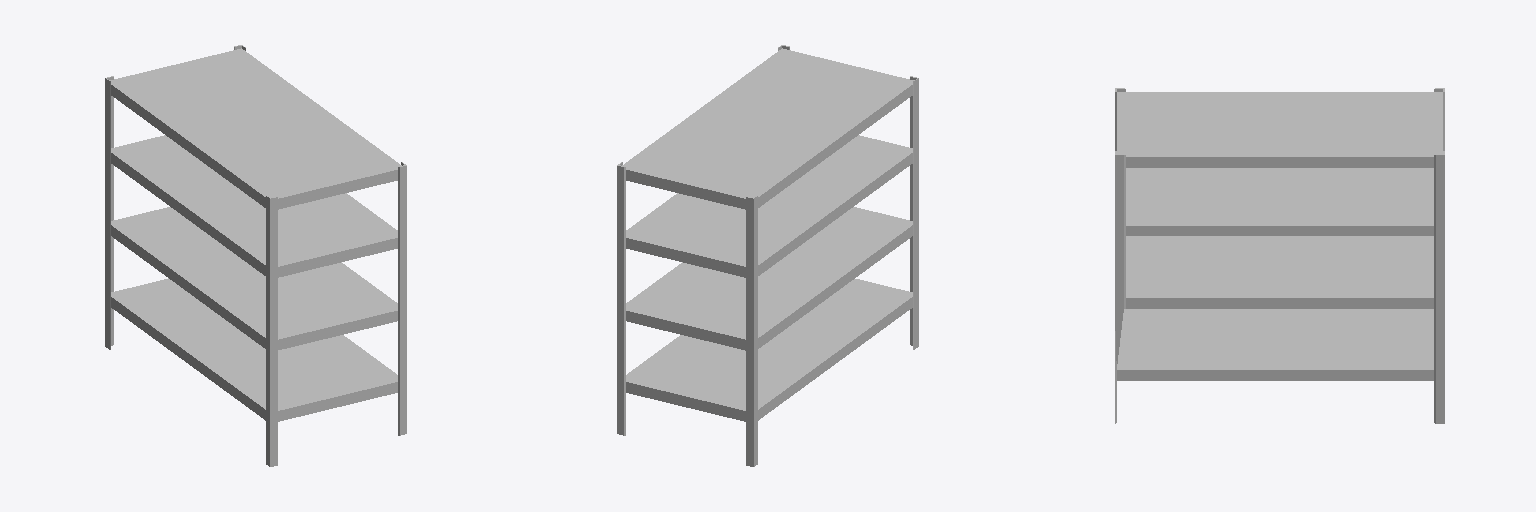
File: shelf.obj
The picture shows the model from 3 angles: view 1: azimuth 30°, elevation 25°; view 2: azimuth 150°, elevation 25°; view 3: azimuth 270°, elevation 25°; orthographic projection.
Visible parts, largest first — view 1: shelf_Cube.007; view 2: shelf_Cube.007; view 3: shelf_Cube.007.
Boxes of the visible parts, box(x1,y1,x2,y2) form: shelf_Cube.007: box(105, 45, 406, 466); shelf_Cube.007: box(617, 45, 918, 466); shelf_Cube.007: box(1115, 88, 1444, 423).
Size of the model in its own units: 2.02 by 3.81 by 4.24.